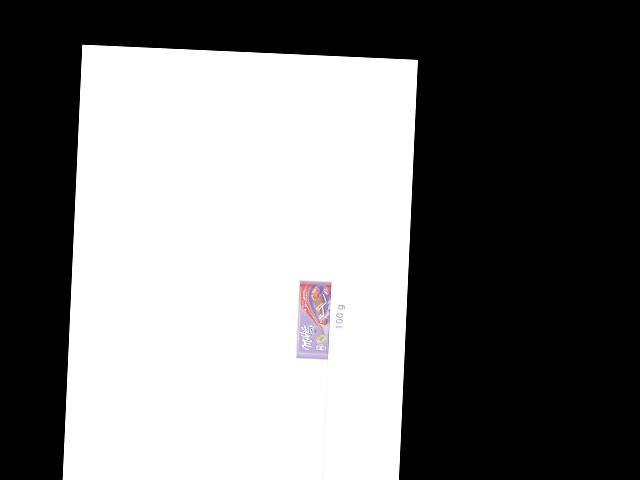chocolate: (295, 279, 335, 359)
